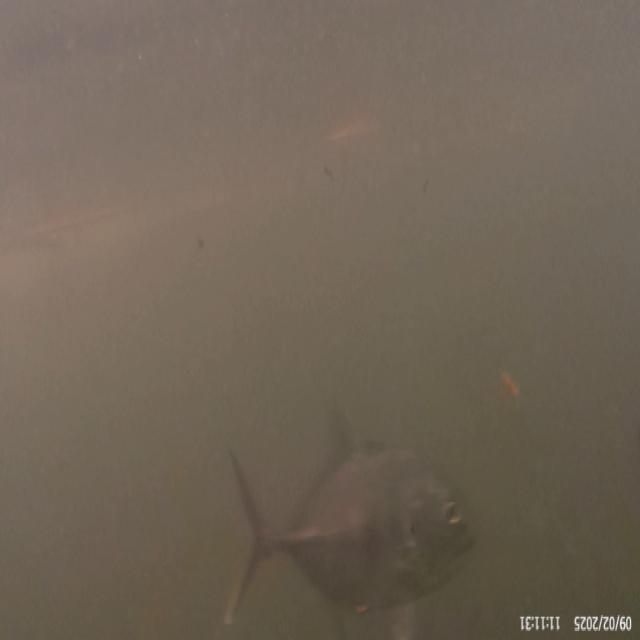ikan: (216, 402, 496, 620)
